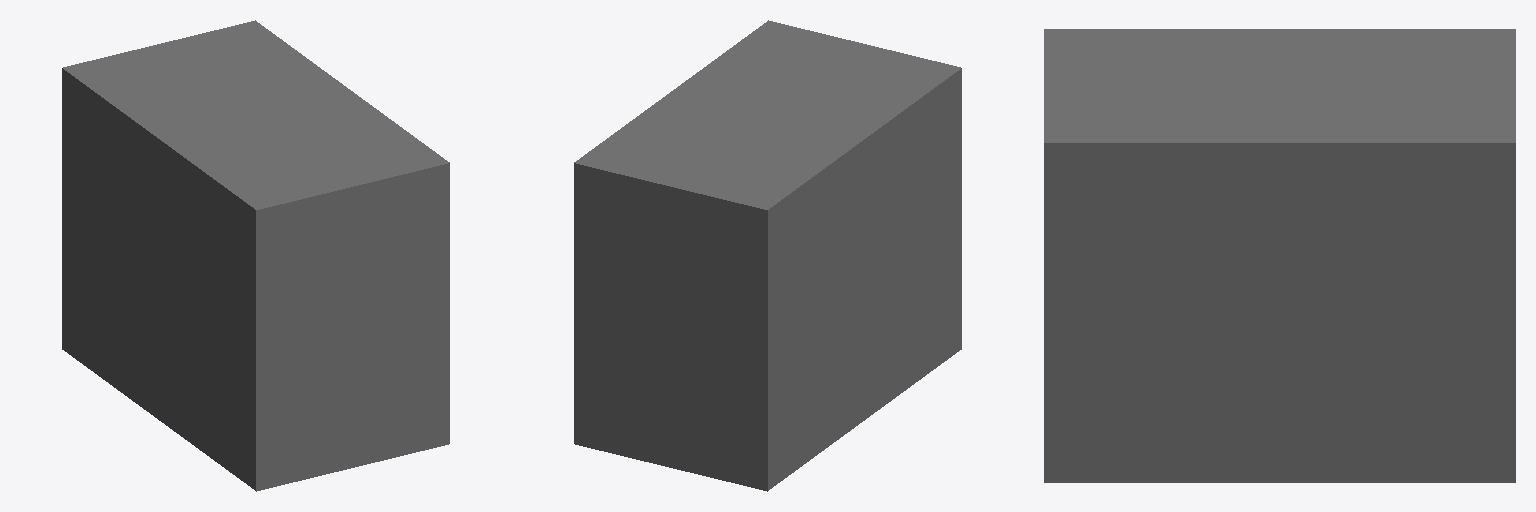
robot.urdf — box.urdf:
<?xml version="1.0" ?>
<robot name="box.urdf">
  <link name="baseLink">
    <contact>
      <lateral_friction value="1.0"/>
      <rolling_friction value="0.0001"/>
      <inertia_scaling value="3.0"/>
    </contact>
    <inertial>
      <origin rpy="0 0 0" xyz="0 0 0"/>
       <mass value="0.1"/>
       <inertia ixx="1" ixy="0" ixz="0" iyy="1" iyz="0" izz="1"/>
    </inertial>
    <visual>
      <origin rpy="0 0 0" xyz="0 0 0"/>
      <geometry>
        <!-- <box size="0.158 0.275 0.21899999999999997"/> -->
        <mesh filename="box/box.obj" scale="0.158 0.275 0.21899999999999997"/>
      </geometry>
      <material name="white">
        <color rgba="0.5 0.5 0.5 1"/>
      </material>
    </visual>
    <collision>
      <origin rpy="0 0 0" xyz="0 0 0"/>
      <geometry>
        <mesh filename="box/box.obj" scale="0.158 0.275 0.21899999999999997"/>
	 	    <!-- <box size="0.158 0.275 0.21899999999999997"/> -->
      </geometry>
    </collision>
  </link>
</robot>

--- Facts derived from the render (not from the file) ---
3 views of the same robot in one strip: view 1: azimuth 30°, elevation 25°; view 2: azimuth 150°, elevation 25°; view 3: azimuth 270°, elevation 25° (orthographic).
Robot: box.urdf — 1 links, 0 joints (none); root link baseLink; default pose: every joint at zero.
Visible links, largest first — view 1: baseLink; view 2: baseLink; view 3: baseLink.
Link boxes in pixels (x1,y1,x2,y2): baseLink: (62, 20, 449, 491); baseLink: (574, 20, 961, 491); baseLink: (1044, 29, 1515, 482).
Bounding box of the posed robot: 0.158 × 0.275 × 0.219 m (x, y, z).
Meshes: 1 distinct files referenced, 1 mesh visuals loaded (1 OBJ).
